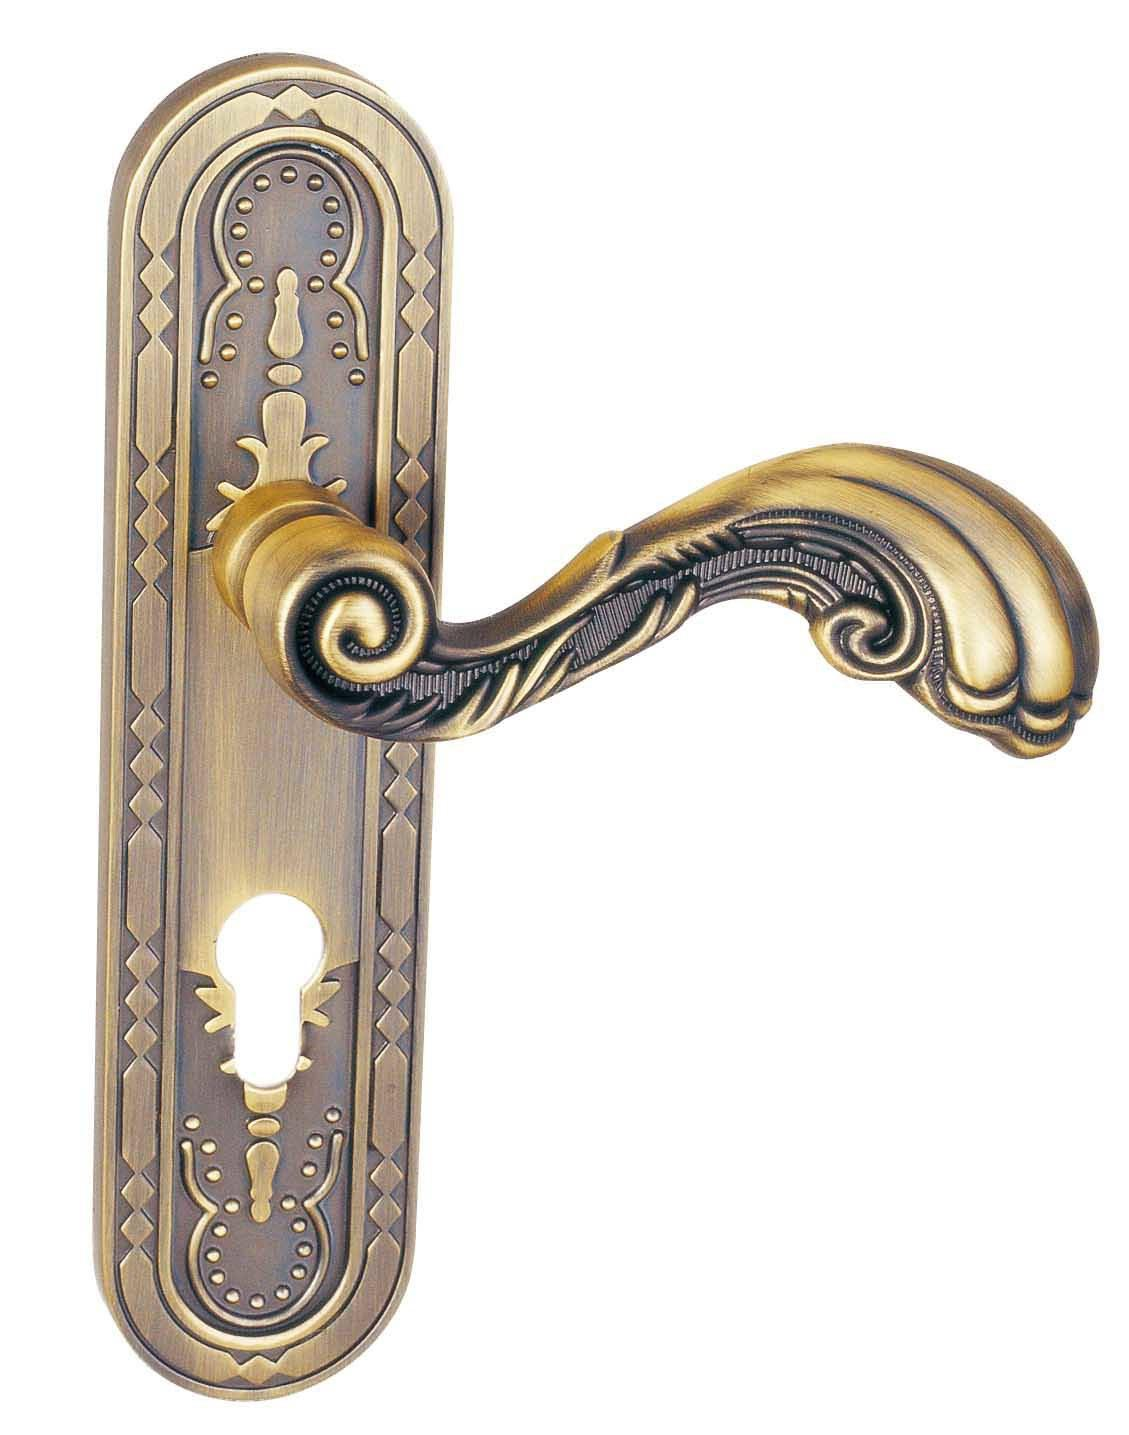doorhandle: (184, 381, 1129, 867)
